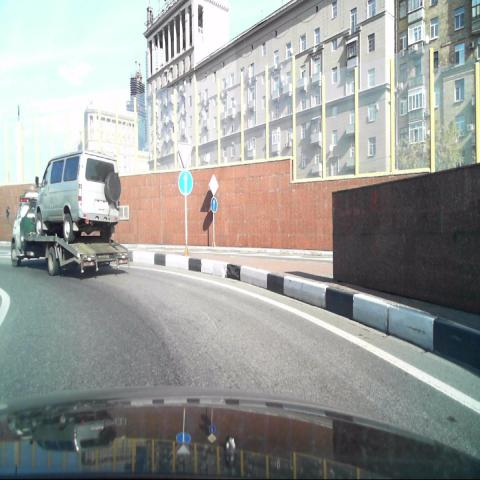4_1_1: (178, 168, 194, 195)
